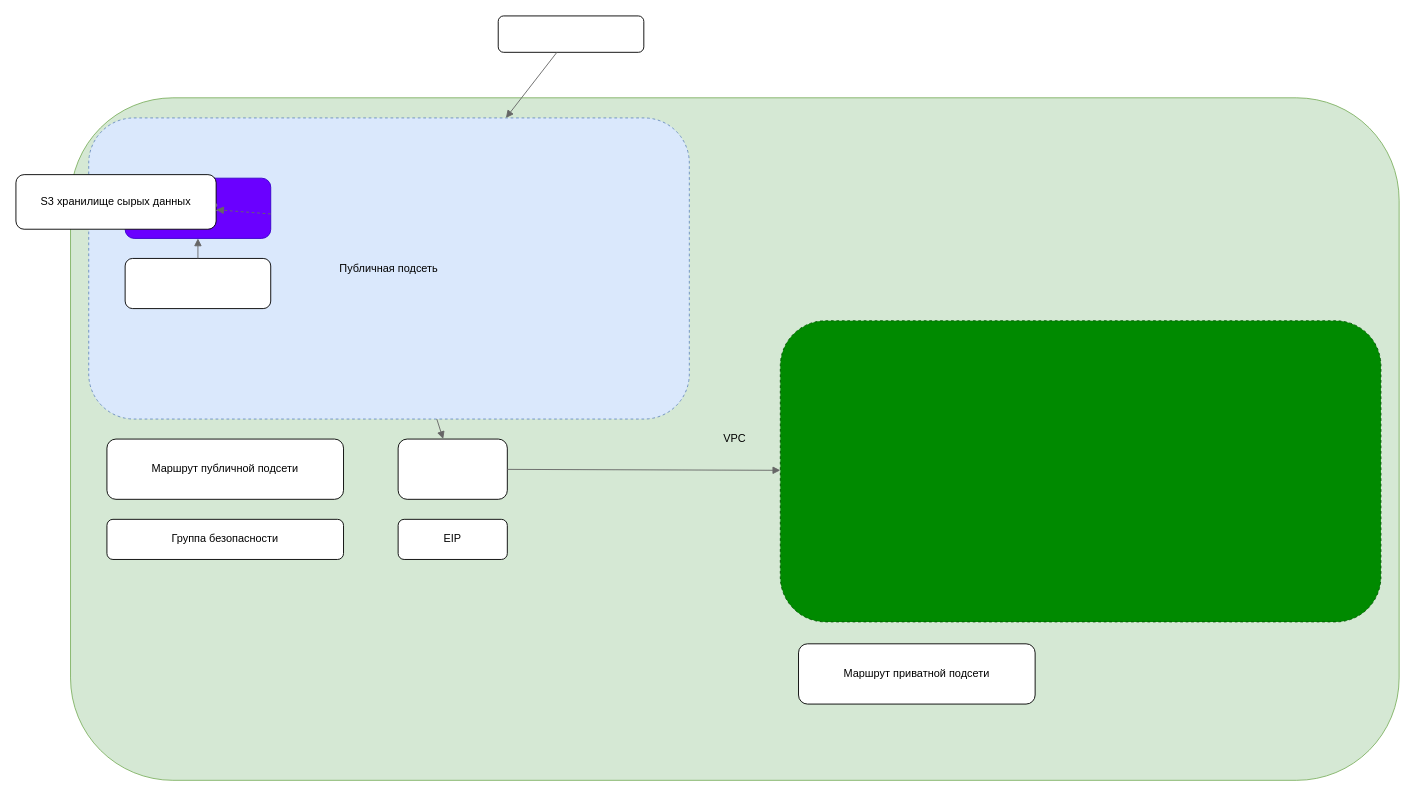
This 1415x796 diagram has some shape labels left out. The centre of each missing label's shape, as x and y in pixels:
NAT: point (452, 468)
Диск EBS: point (197, 283)
Интернет шлюз: point (570, 33)
Приватная подсеть: point (1080, 471)
